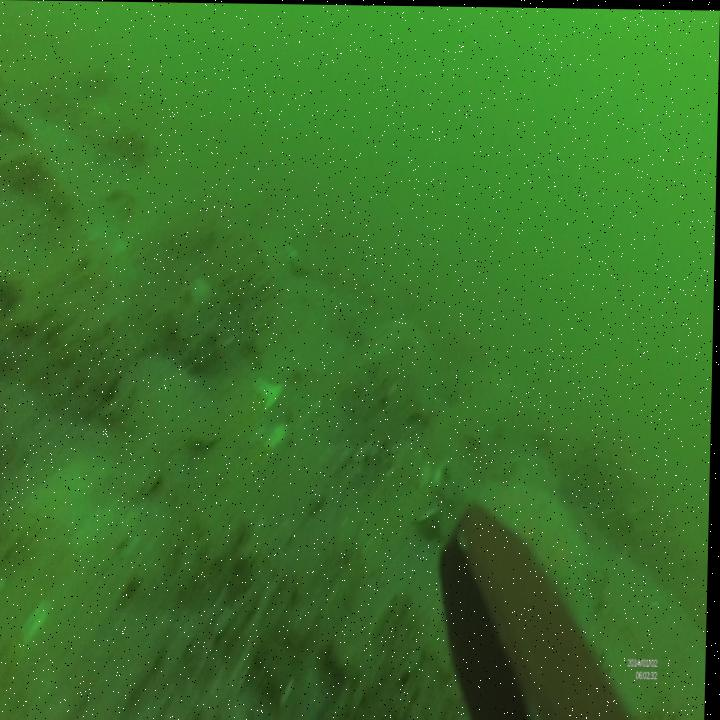starfish: (370, 319, 442, 419)
